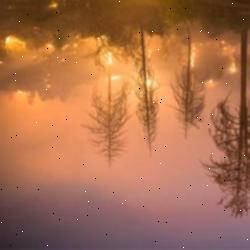fire: (0, 24, 245, 100)
